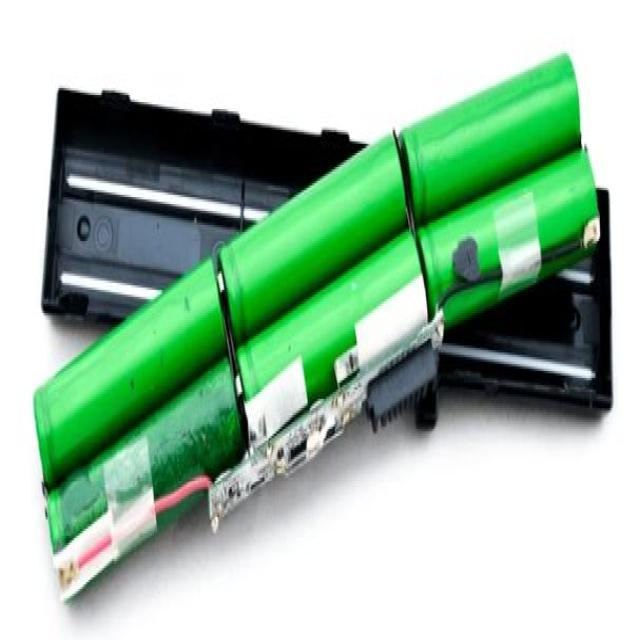electronic: (17, 28, 634, 631)
